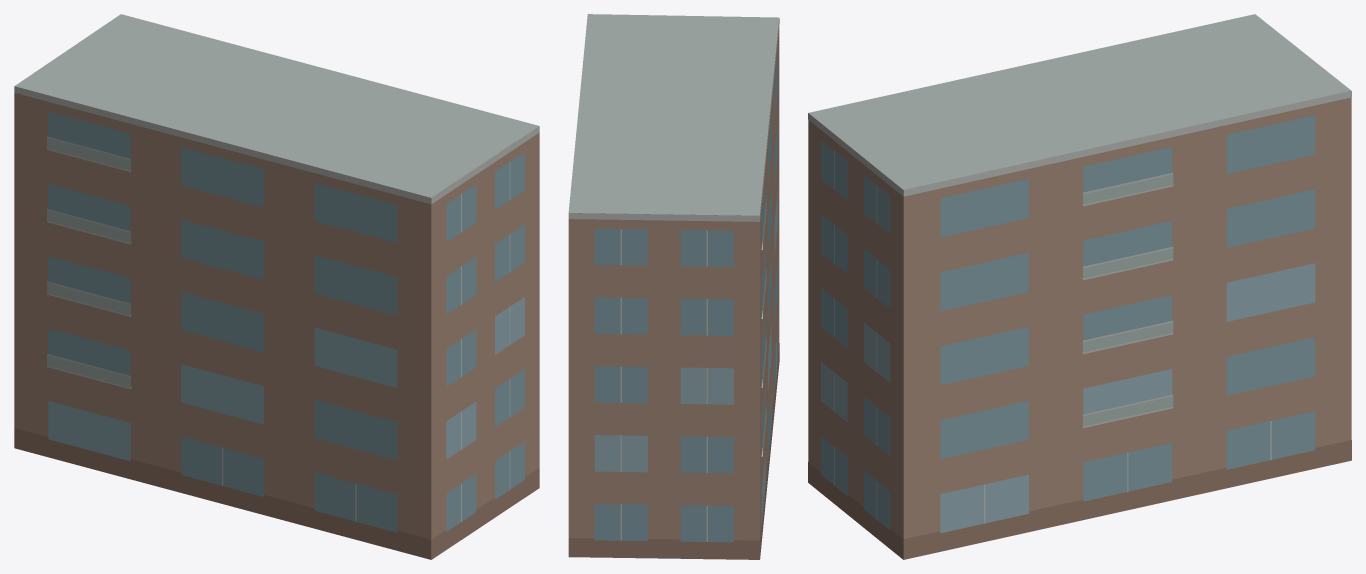
The model's file is survey-upis-32834819.glb.
The picture shows the model from 3 angles, left to right: view 1: azimuth 30°, elevation 25°; view 2: azimuth 150°, elevation 25°; view 3: azimuth 270°, elevation 25°; orthographic projection. The views are drawn at different scales.
Visible parts, largest first — view 1: survey-upis-32834819.tmp; view 2: survey-upis-32834819.tmp; view 3: survey-upis-32834819.tmp.
Boxes of the visible parts, x1,y1,x2,y2 form: survey-upis-32834819.tmp: (14,14,539,559); survey-upis-32834819.tmp: (568,14,779,559); survey-upis-32834819.tmp: (808,14,1351,559).
Bounding box in the file's own units: 13.95 × 13.65 × 18.2.
